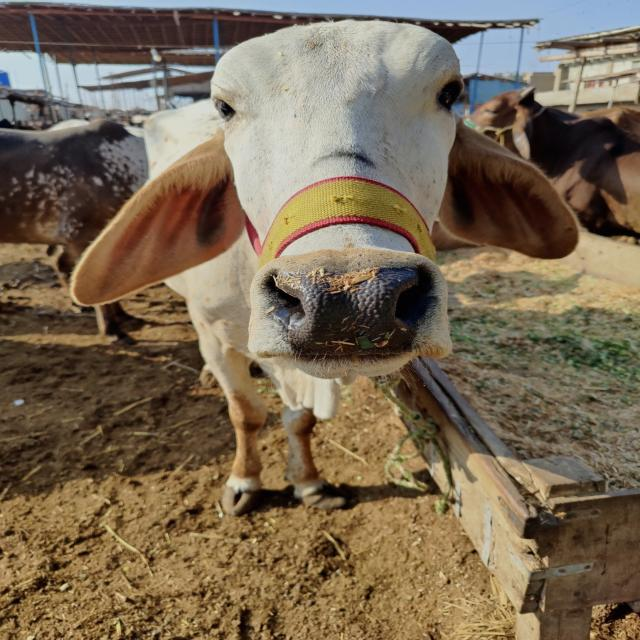muzzles: (259, 257, 443, 368)
